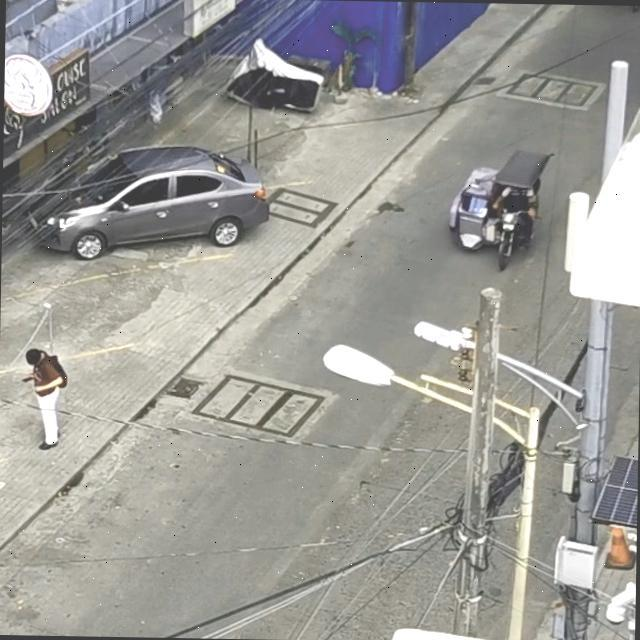Tricycle: (442, 147, 546, 264)
